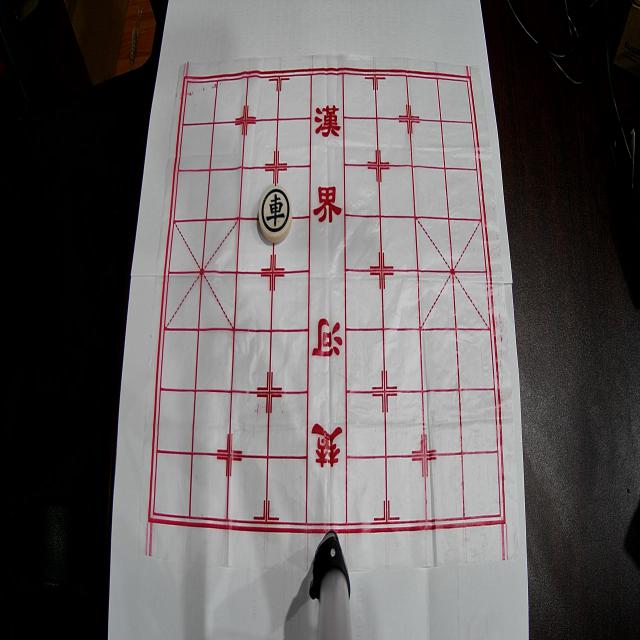black-chariot: (259, 186, 292, 243)
